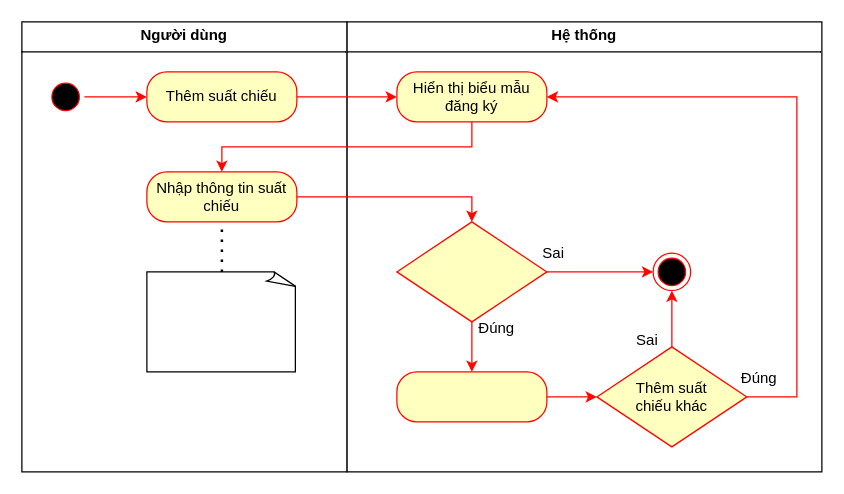
Image size: 844x494. Some labels were removed from this diagram. Here are the shapes that lost their labels. From the top down, the centre of each, then its label:
the point at 471,271: Xác nhận thêm suất chiếu
the point at 221,321: STT phòng chiếu , trạng thái phòng chiếu, ngày giờ thời gian bắt đầu / kết thúc
the point at 471,396: Lưu suất chiếu vào CSDL
